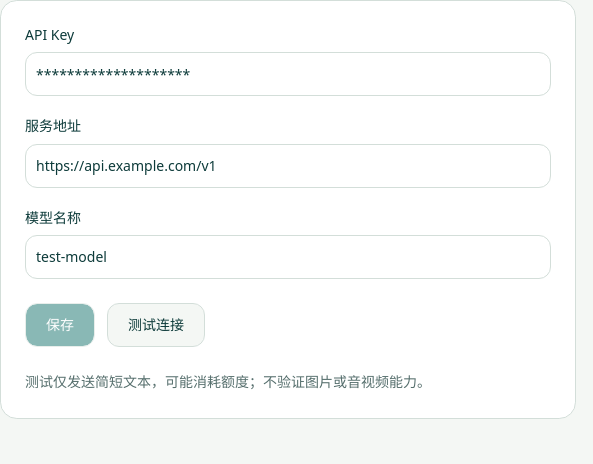
Test case: AI settings form › requires a newly entered key for an endpoint change and prevents testing dirty values
Type "https://other.example.com/v1" into the field labelled "服务地址" at (288, 166), box [25,144,551,188]
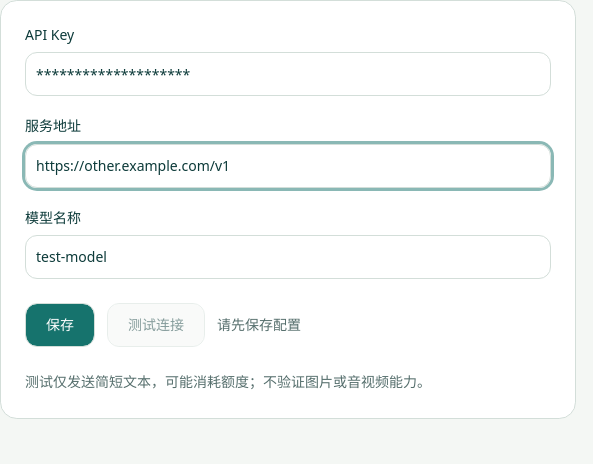
expect the field labelled "API Key" holds "********************": met, box [25,52,551,96]
expect the button "测试连接" is disabled: met, box [107,303,205,347]
expect the text "请先保存配置" is shown: met, box [217,315,301,335]
Click the button "保存" at (60, 325), box [25,303,95,347]
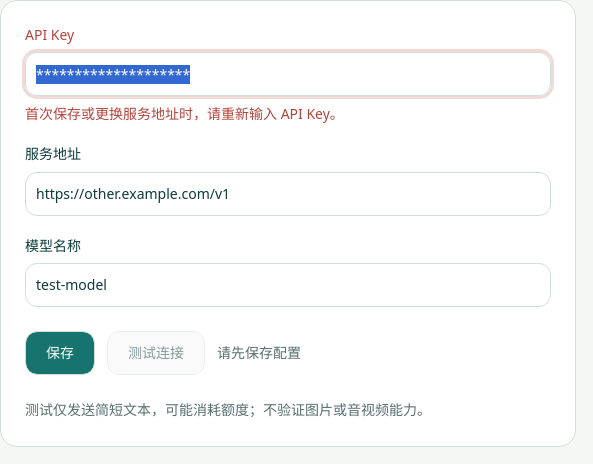
expect the text "首次保存或更换服务地址时，请重新输入 API Key。" is shown: met, box [25,104,344,123]
